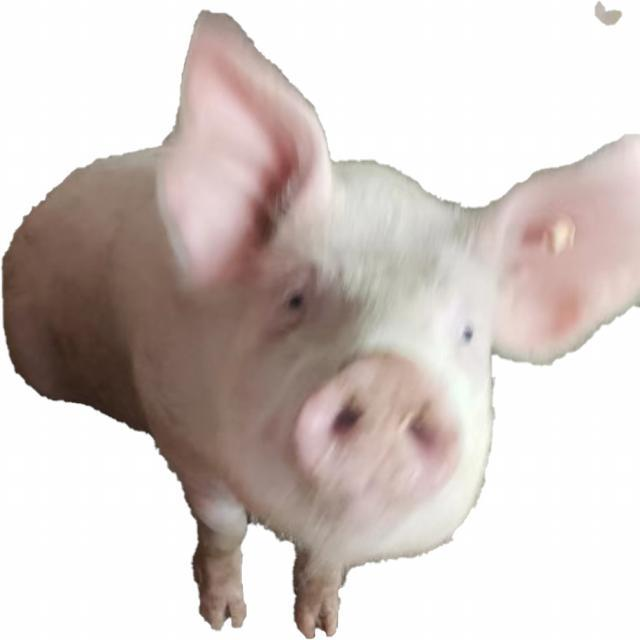pig: (4, 12, 640, 636)
